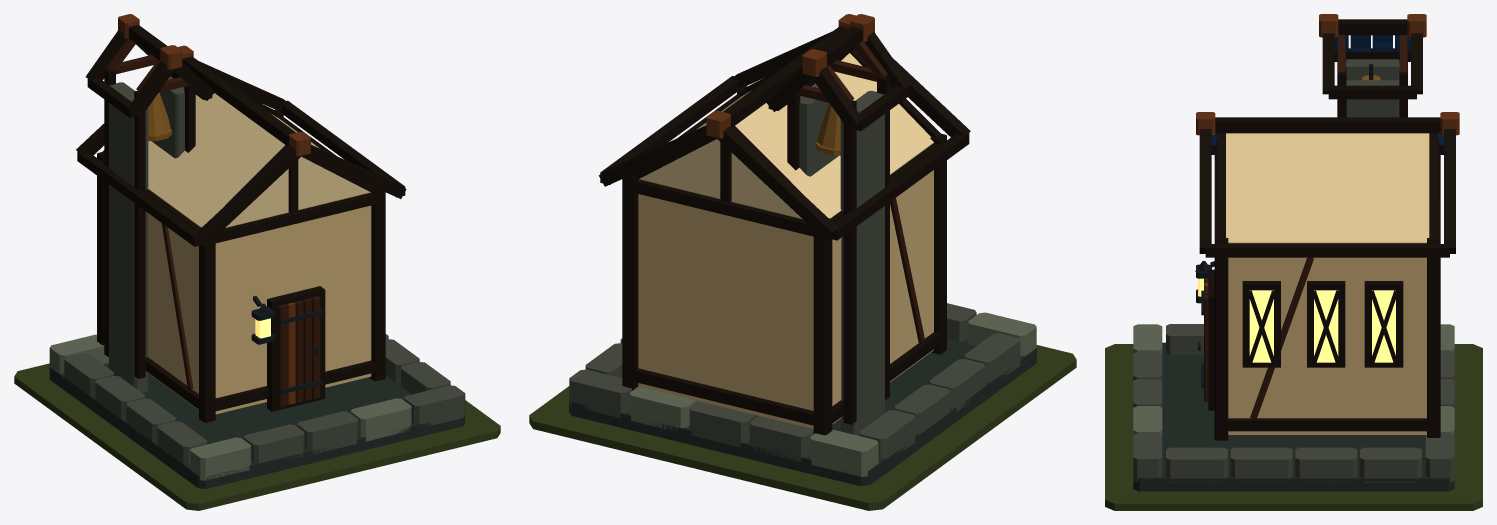
Rendered from chapel_t4.glb.
3 views of the same model, side by side, from view 1: azimuth 30°, elevation 25°; view 2: azimuth 150°, elevation 25°; view 3: azimuth 270°, elevation 25° (orthographic). The views are drawn at different scales.
Parts seen in each view (by area): view 1: MMR | chapel | T04 Architecture.001, MMR | chapel | Tier 04 Ground.001; view 2: MMR | chapel | T04 Architecture.001, MMR | chapel | Tier 04 Ground.001; view 3: MMR | chapel | T04 Architecture.001, MMR | chapel | Tier 04 Ground.001.
Boxes of the visible parts, x1,y1,x2,y2 form: MMR | chapel | T04 Architecture.001: (49,14,465,488); MMR | chapel | Tier 04 Ground.001: (14,363,500,510); MMR | chapel | T04 Architecture.001: (569,14,1036,486); MMR | chapel | Tier 04 Ground.001: (529,345,1076,510); MMR | chapel | T04 Architecture.001: (1133,14,1459,491); MMR | chapel | Tier 04 Ground.001: (1105,344,1482,510).
Bounding box in the file's own units: 2.35 × 2.6 × 2.35.
Materials: 2 (1 with a texture image).
